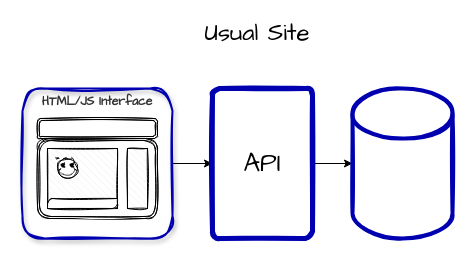
Image size: 471x263. Some labels were removed from this diagram. Here are the shapes that lost their labels. From the top down, the centre of each, then its label:
At (x=97, y=128): "Feed | Kekle".
At (x=402, y=163): "Database".
